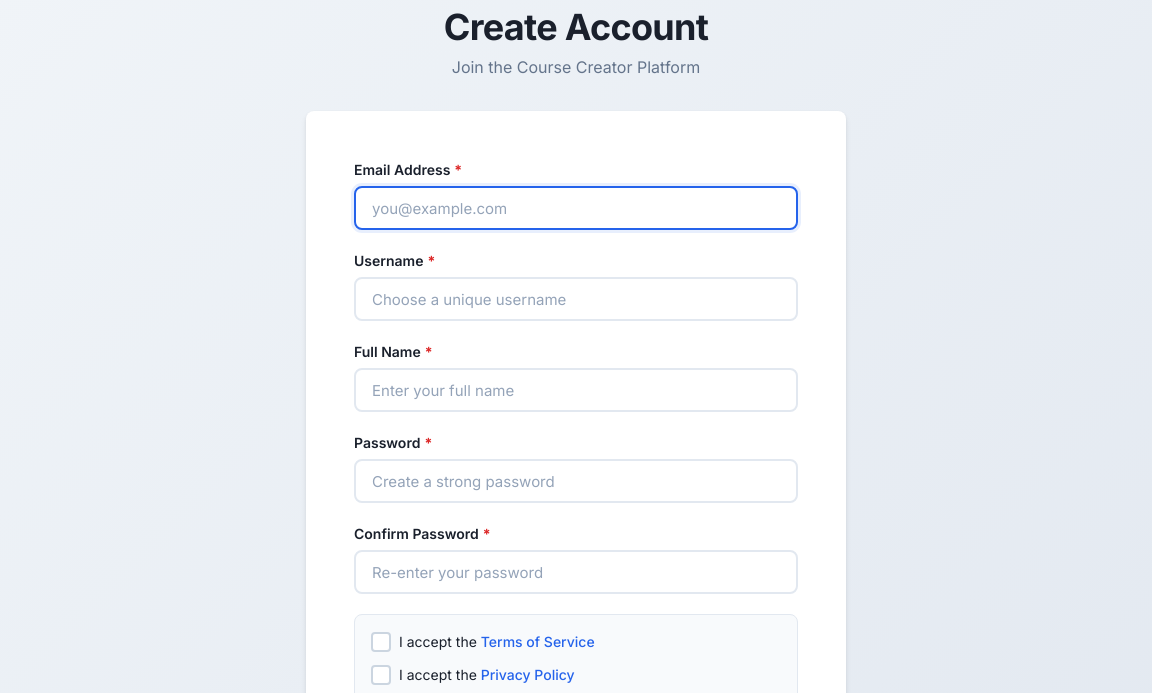
Test: RegistrationPage Component › Form Validation - Username › shows error when username is empty
In the field labelled "Email Address*": (576, 208) [354,186,798,230], type "test@example.com"
(page scrolled)
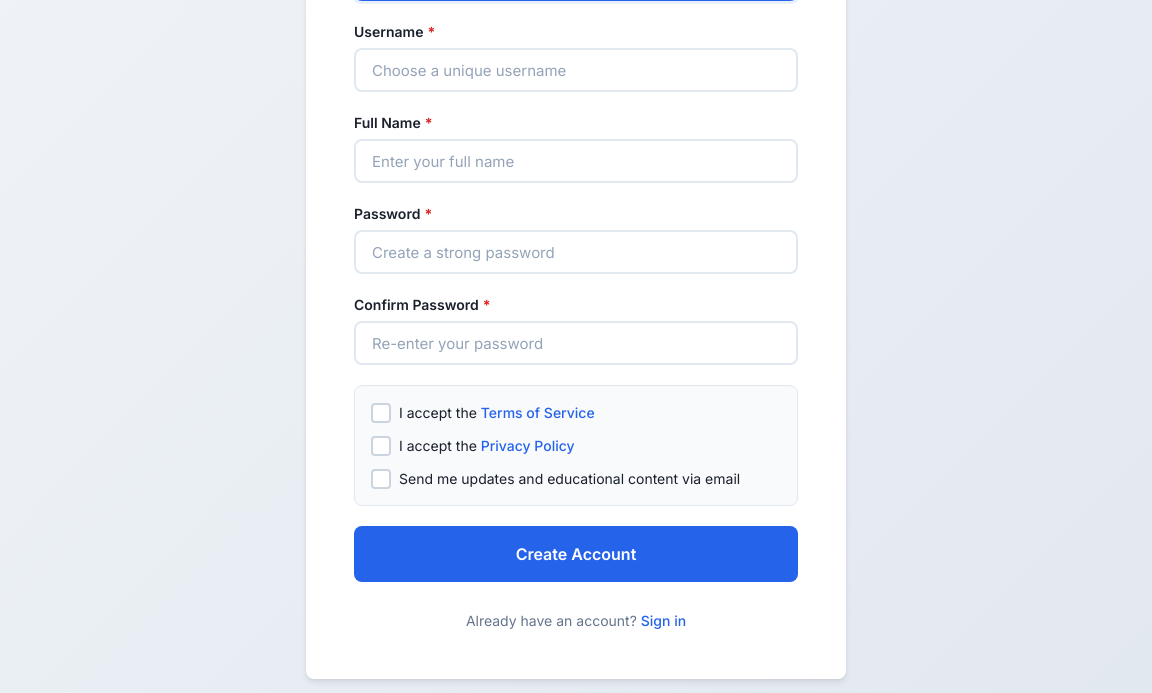
Click the button "Create Account": (576, 554) [354,526,798,582]
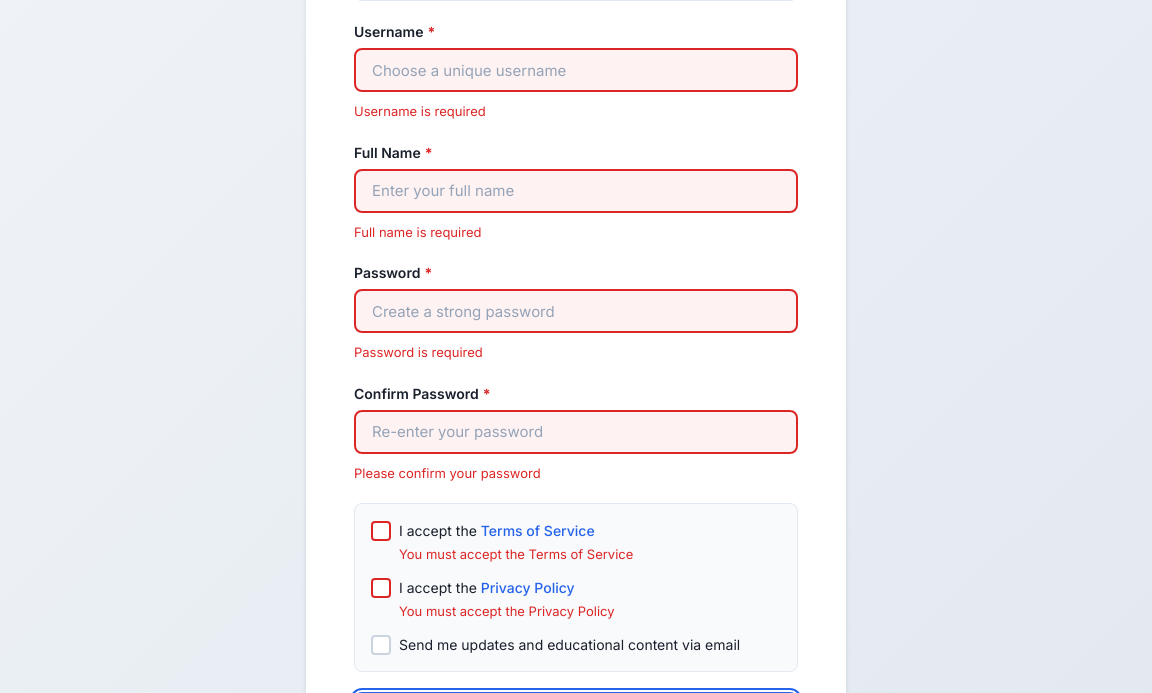
expect the text "Username is required" is shown: met, box [354,103,486,119]
